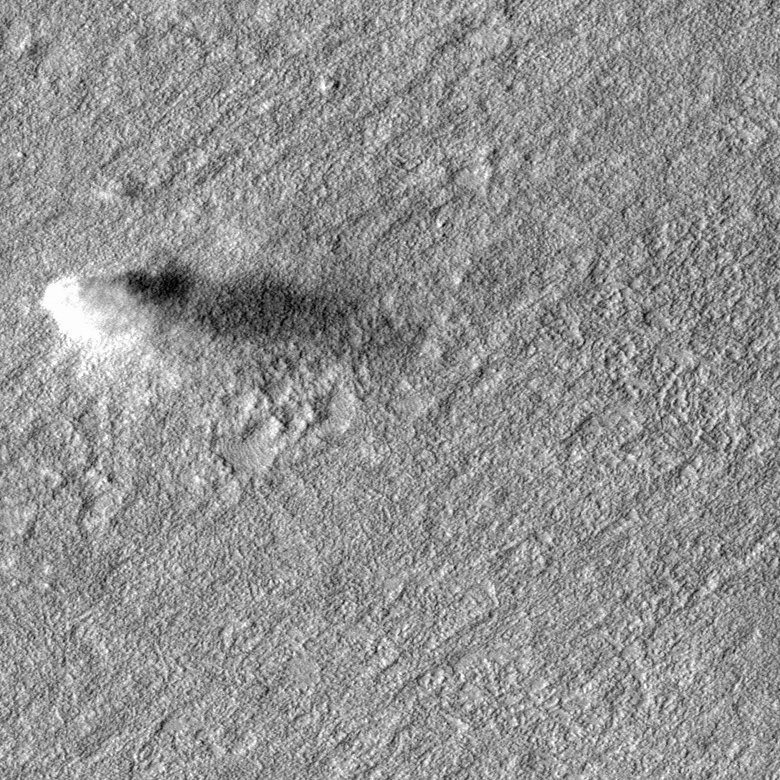dust_devil: (36, 247, 430, 392)
